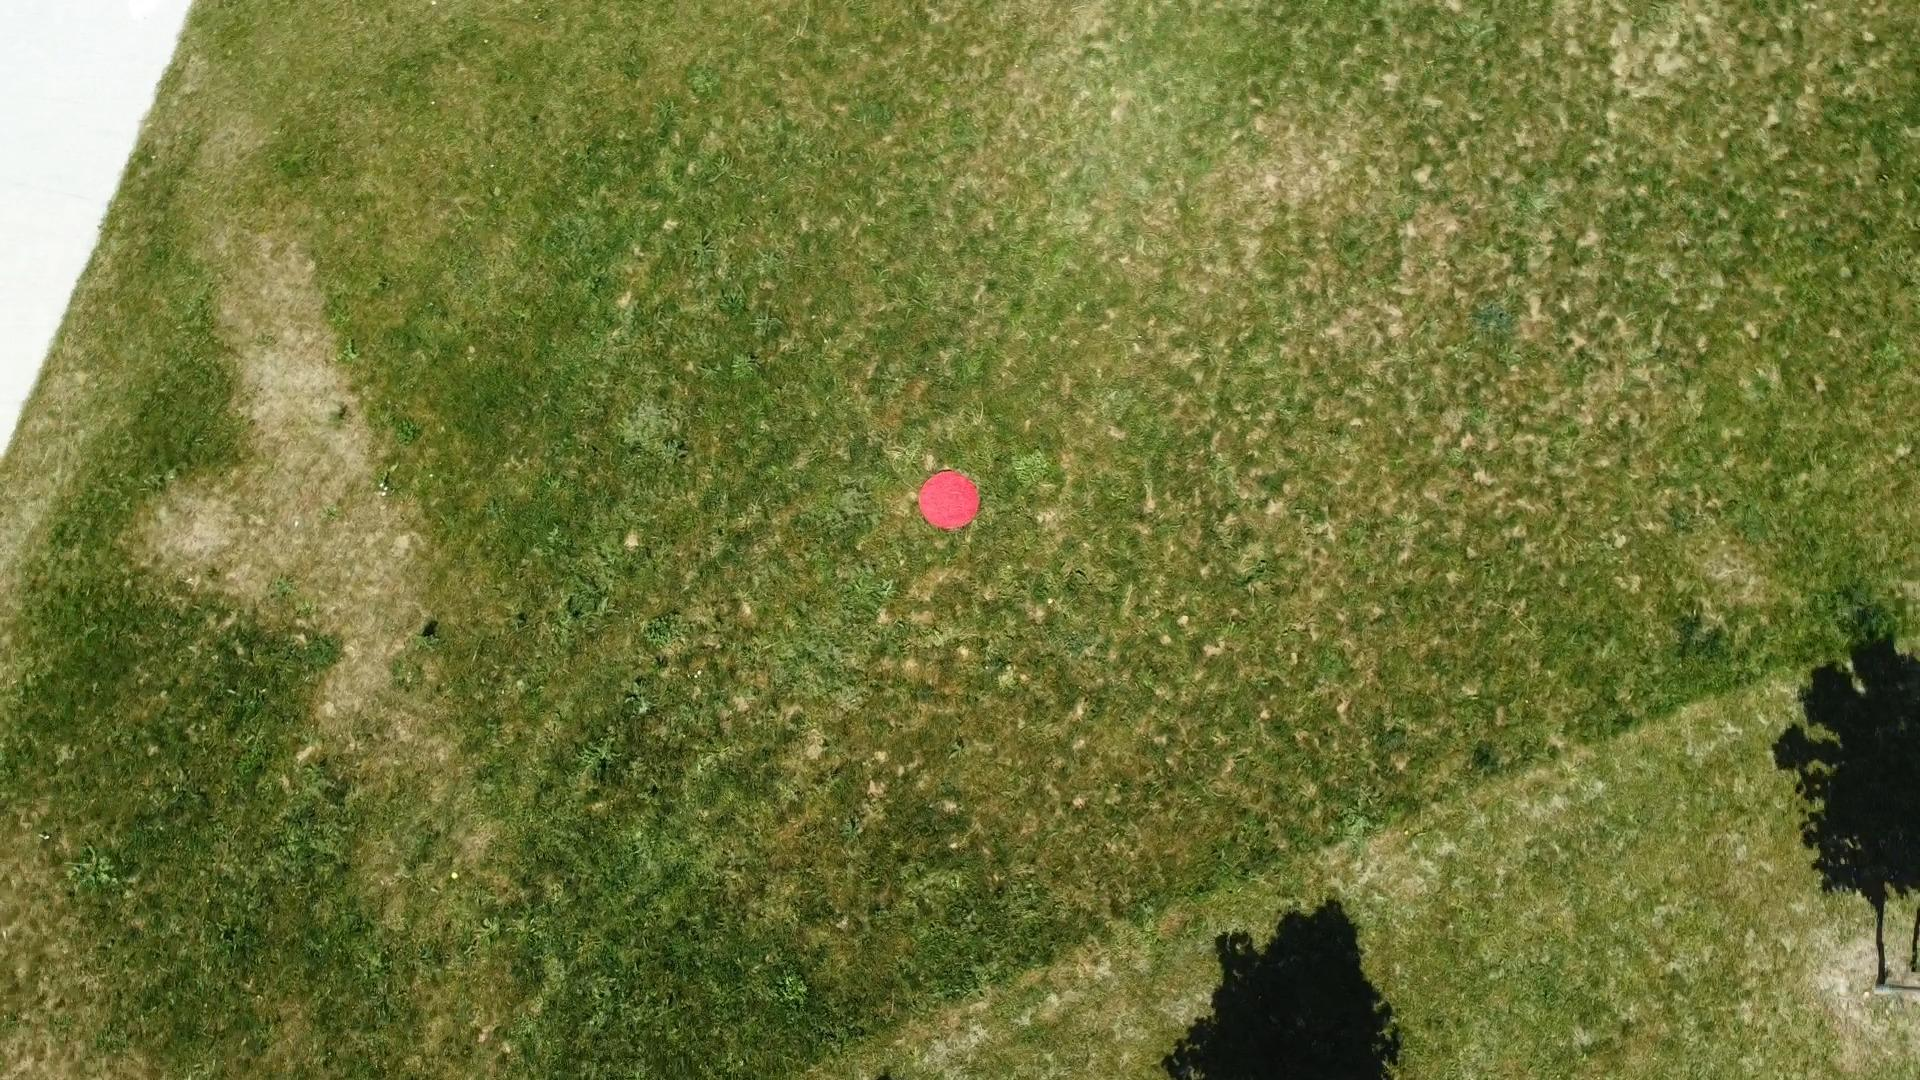Red: (915, 467, 981, 533)
